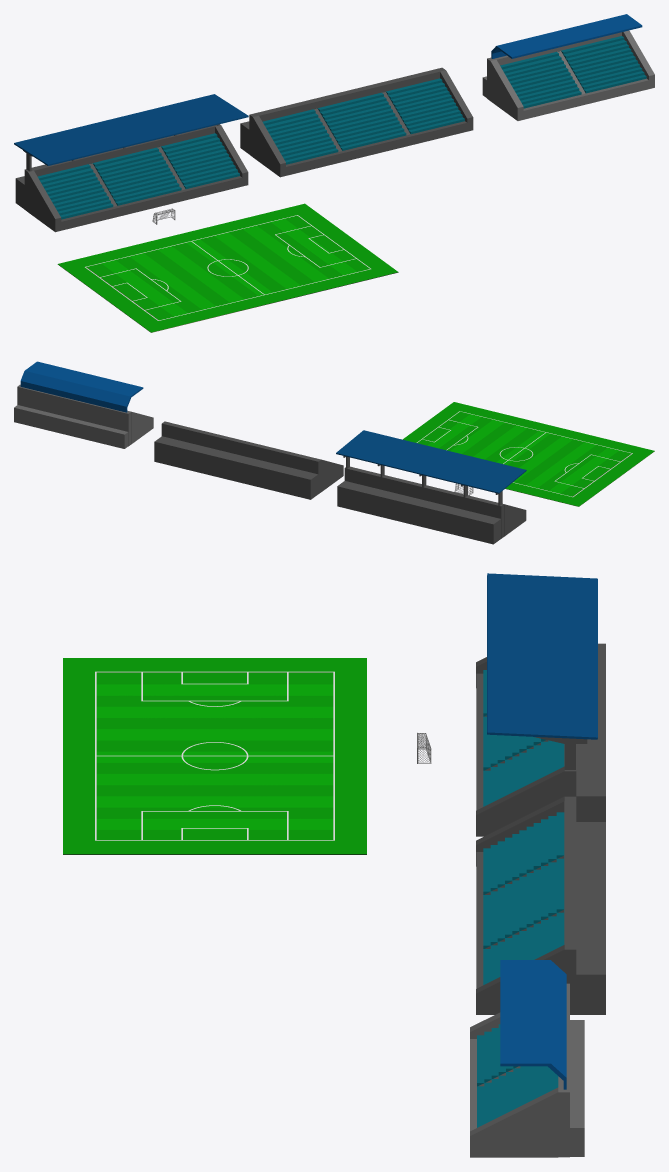
Rendered from Football field.fbx.
3 views of the same model, one above another, from view 1: azimuth 30°, elevation 25°; view 2: azimuth 150°, elevation 25°; view 3: azimuth 270°, elevation 25° (orthographic). The views are drawn at different scales.
Parts seen in each view (by area): view 1: Football Field, Building_Stadium.002, Building_Stadium.001, Seating_02; view 2: Building_Stadium.002, Football Field, Seating_02, Building_Stadium.001; view 3: Football Field, Building_Stadium.002, Building_Stadium.001, Seating_02.
Part boxes in pixels (left/top/right/bottom): Football Field: left=57, top=203, right=398, bottom=332; Building_Stadium.002: left=14, top=94, right=248, bottom=232; Building_Stadium.001: left=240, top=67, right=473, bottom=177; Seating_02: left=482, top=14, right=654, bottom=120; Building_Stadium.002: left=336, top=430, right=526, bottom=544; Football Field: left=403, top=402, right=654, bottom=506; Seating_02: left=14, top=361, right=153, bottom=448; Building_Stadium.001: left=154, top=421, right=343, bottom=499; Football Field: left=63, top=658, right=366, bottom=854; Building_Stadium.002: left=476, top=573, right=605, bottom=836; Building_Stadium.001: left=476, top=796, right=605, bottom=1014; Seating_02: left=470, top=960, right=584, bottom=1157.
Bounding box in the file's own units: 73.73 × 7.39 × 33.93.
